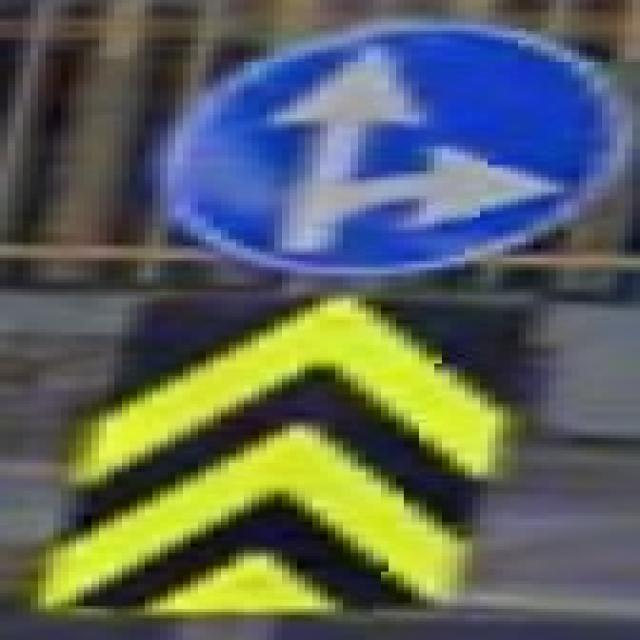Straight or Right: (165, 31, 614, 279)
